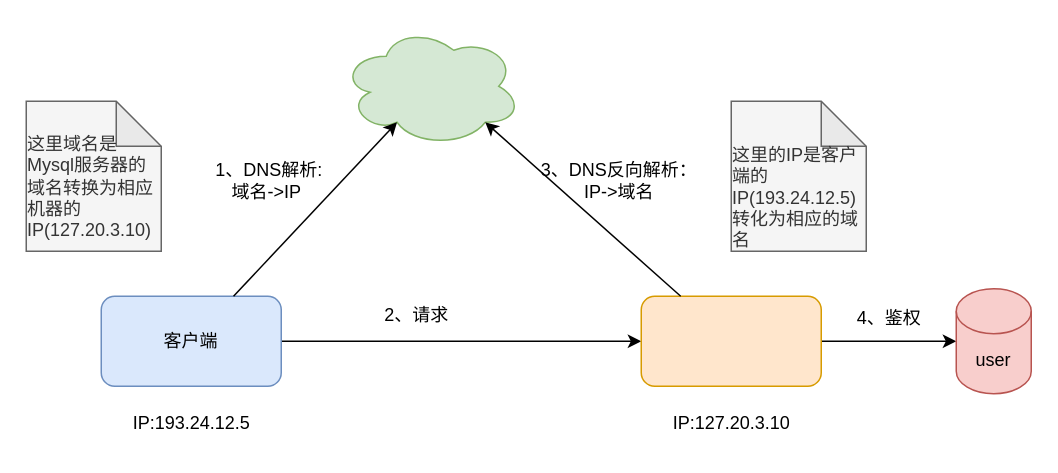
This 1058x473 diagram has some shape labels left out. The centre of each missing label's shape, as x and y in pixels:
"DNS" goes at point 430,85.
"MySQL服务器" goes at point 730,340.
